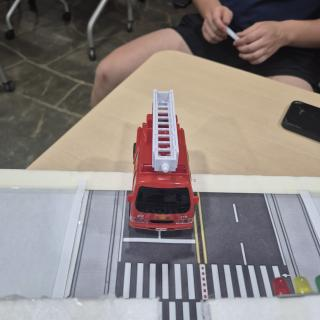Fire_truck: (127, 90, 199, 231)
